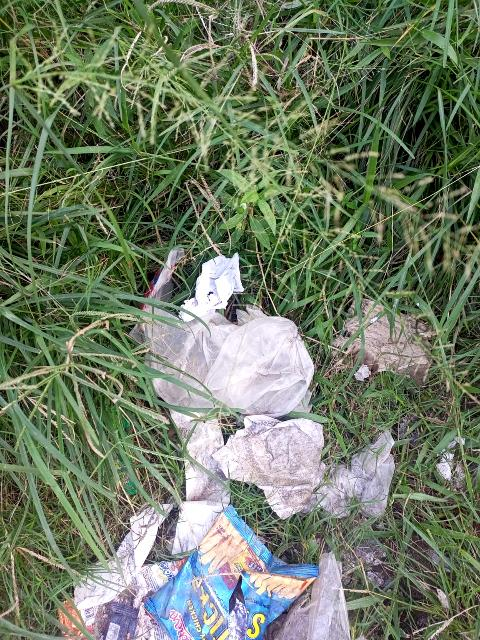polythene: (119, 225, 328, 431)
